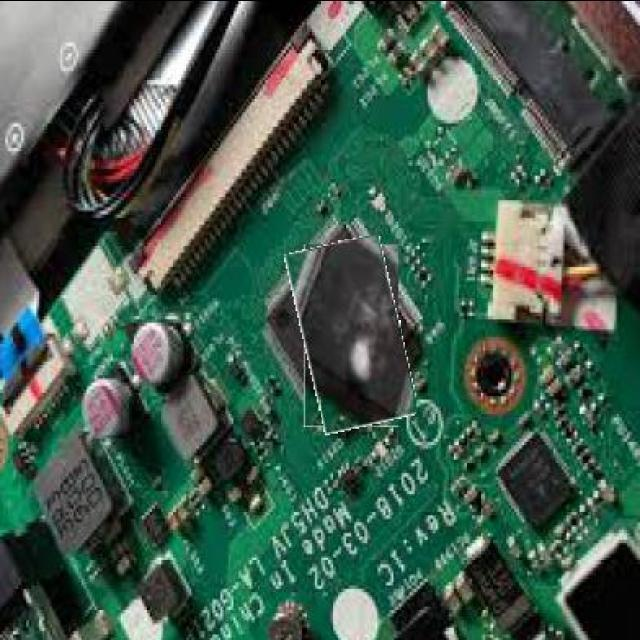Burn: (295, 238, 409, 430)
